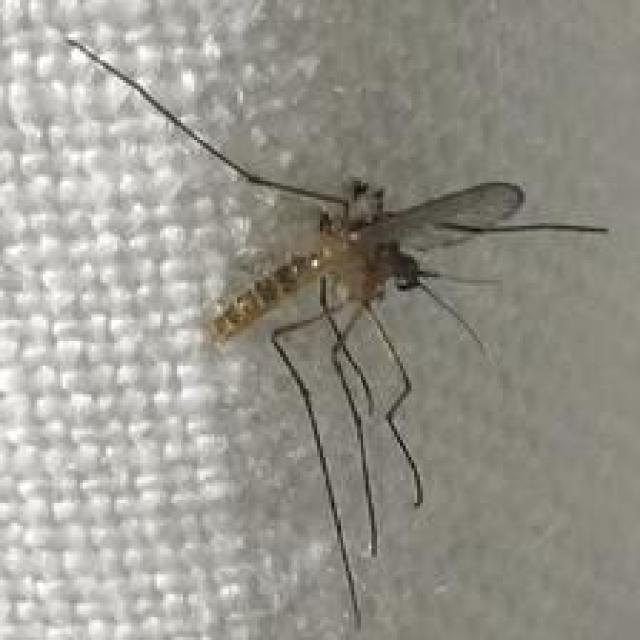Culex: (63, 33, 608, 633)
